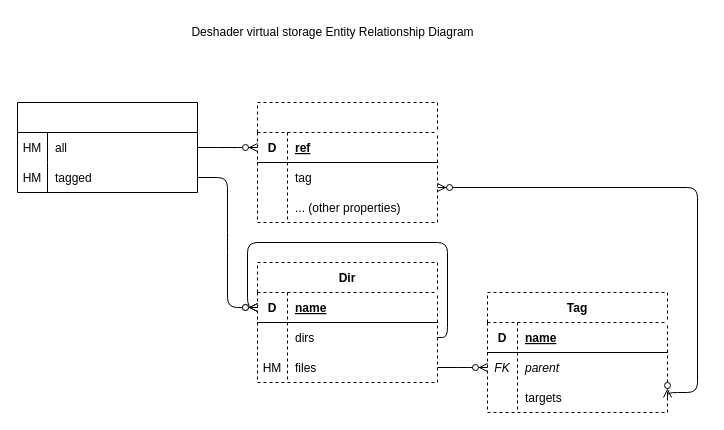
Some shapes in this 724 by 430 pixel diagram are drawn without their labels. The shapes that lost their labels are listed below. From the top down, each one's box as (x1, y1, x2, y2) in pixels, then its label:
(16, 102, 198, 192): Storage
(256, 102, 438, 222): Stored
